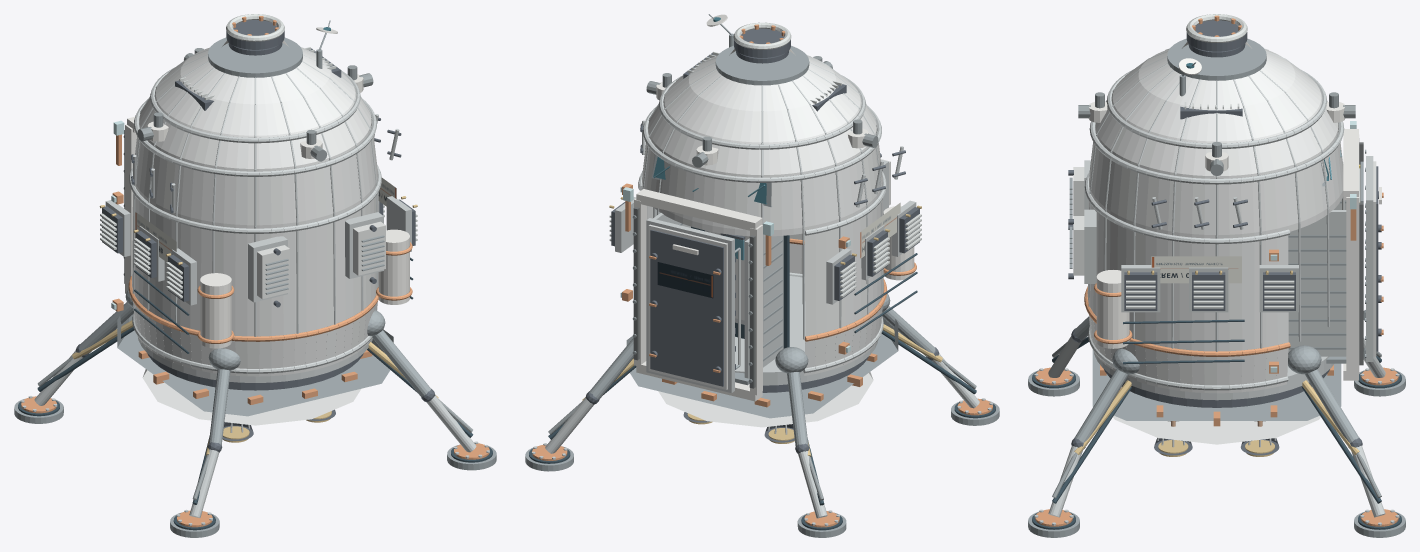
Rendered from Crew_Lander.glb.
The picture shows the model from 3 angles, left to right: view 1: azimuth 30°, elevation 25°; view 2: azimuth 150°, elevation 25°; view 3: azimuth 270°, elevation 25°; orthographic projection. The views are drawn at different scales.
Visible parts, largest first — view 1: Crew_hull_root_03, Crew_edge_root_02, Crew_steel_root_00, Crew_dark_root_01, Crew_white_root_05, Crew_orange_root_04, Crew_warm_root_07, Crew_silver_root_12, Crew_black_root_06, Crew_engine_root_14, Crew_gold_root_13, Crew_Marking_01; view 2: Crew_hull_root_03, Crew_edge_root_02, Crew_steel_root_00, Crew_dark_CrewRampPivot_18, Crew_white_root_05, Crew_dark_root_01, Crew_orange_root_04, Crew_black_root_06, Crew_edge_CrewRampPivot_16, Crew_silver_root_12, Crew_rubber_root_09, Crew_warm_CrewRampPivot_17 (+5 smaller); view 3: Crew_hull_root_03, Crew_edge_root_02, Crew_steel_root_00, Crew_dark_root_01, Crew_white_root_05, Crew_orange_root_04, Crew_black_root_06, Crew_silver_root_12, Crew_gold_root_13, Crew_Marking_00, Crew_edge_CrewRampPivot_16, Crew_engine_root_14 (+4 smaller).
Part boxes in pixels (x1,y1,x2,y2): Crew_hull_root_03: (132, 47, 378, 425); Crew_edge_root_02: (21, 47, 489, 525); Crew_steel_root_00: (14, 20, 496, 537); Crew_dark_root_01: (75, 20, 435, 452); Crew_white_root_05: (125, 27, 409, 348); Crew_orange_root_04: (21, 16, 489, 527); Crew_warm_root_07: (257, 221, 385, 298); Crew_silver_root_12: (100, 14, 417, 298); Crew_black_root_06: (18, 257, 492, 530); Crew_engine_root_14: (37, 48, 472, 499); Crew_gold_root_13: (72, 196, 438, 455); Crew_Marking_01: (135, 212, 176, 262); Crew_hull_root_03: (642, 55, 883, 427); Crew_edge_root_02: (531, 55, 993, 526); Crew_steel_root_00: (525, 14, 999, 537); Crew_dark_CrewRampPivot_18: (650, 229, 735, 386); Crew_white_root_05: (634, 14, 914, 401); Crew_dark_root_01: (585, 28, 939, 453); Crew_orange_root_04: (532, 24, 992, 527); Crew_black_root_06: (529, 226, 995, 530); Crew_edge_CrewRampPivot_16: (646, 218, 740, 392); Crew_silver_root_12: (609, 22, 921, 297); Crew_rubber_root_09: (633, 207, 755, 388); Crew_warm_CrewRampPivot_17: (648, 224, 727, 389); Crew_hull_root_03: (1087, 49, 1343, 444); Crew_edge_root_02: (1034, 48, 1399, 525); Crew_steel_root_00: (1028, 38, 1405, 537); Crew_dark_root_01: (1068, 20, 1362, 455); Crew_white_root_05: (1088, 42, 1359, 380); Crew_orange_root_04: (1035, 15, 1398, 526); Crew_black_root_06: (1032, 319, 1401, 529); Crew_silver_root_12: (1126, 14, 1294, 308); Crew_gold_root_13: (1074, 270, 1359, 456); Crew_Marking_00: (1151, 256, 1241, 283); Crew_edge_CrewRampPivot_16: (1342, 156, 1373, 361); Crew_engine_root_14: (1052, 92, 1381, 498).
Size of the model in its own units: 7 by 8.6 by 6.84.
20 materials, 3 textured.
